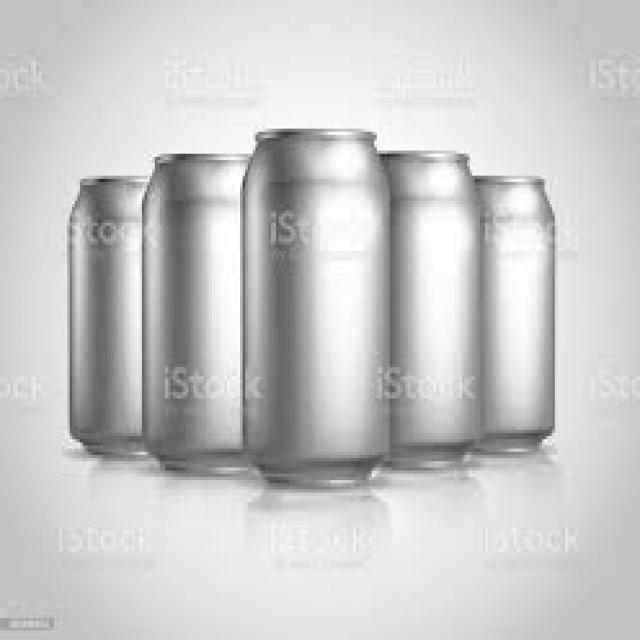recyclable: (240, 128, 393, 490), (140, 153, 253, 473), (378, 152, 485, 475), (471, 172, 558, 457), (68, 175, 149, 458)
